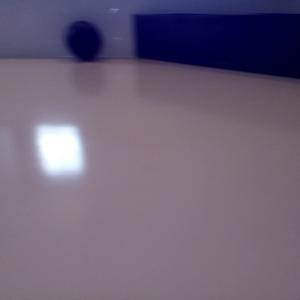zone: (132, 13, 300, 79)
